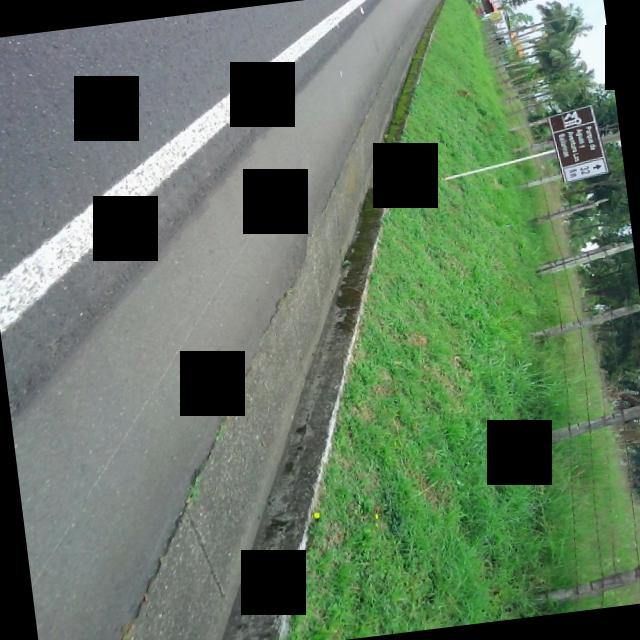DITCH: (0, 0, 558, 640), (0, 0, 528, 640)
